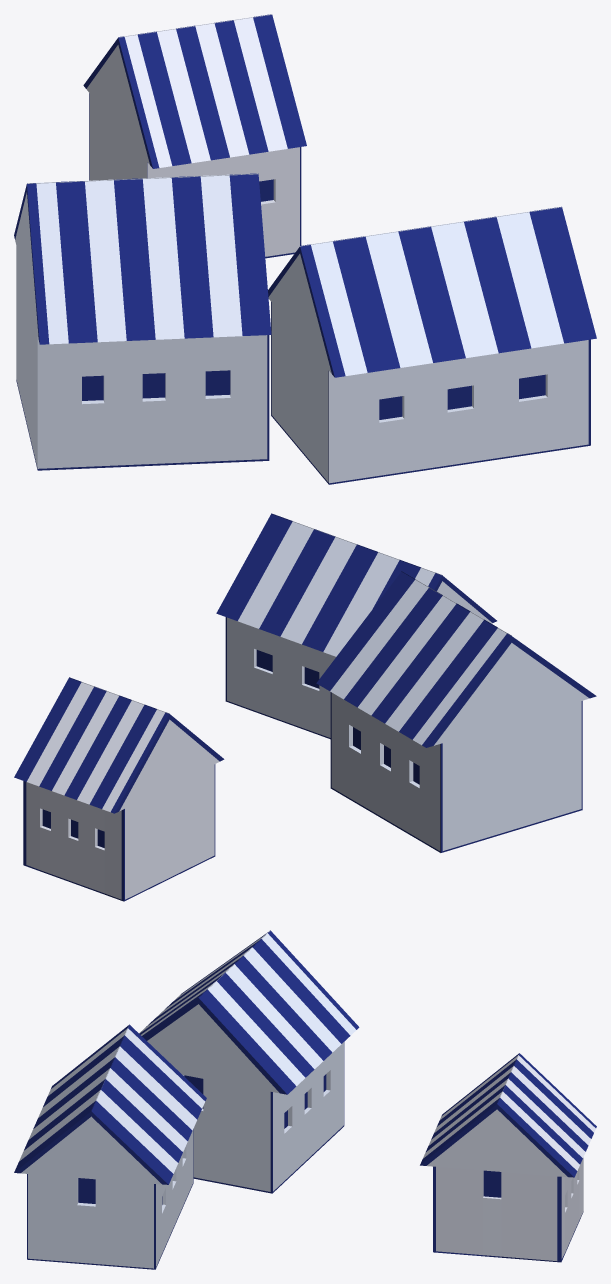
The model's file is Village_near_church.gltf.
The picture shows the model from 3 angles, top to bottom: view 1: azimuth 30°, elevation 25°; view 2: azimuth 150°, elevation 25°; view 3: azimuth 270°, elevation 25°; orthographic projection. The views are drawn at different scales.
Visible parts, largest first — view 1: Cube.001, Cube.002, Cube; view 2: Cube.002, Cube, Cube.001; view 3: Cube.002, Cube.001, Cube.
Boxes of the visible parts, box(x1,y1,x2,y2) form: Cube.001: box(268, 206, 596, 484); Cube.002: box(14, 173, 271, 470); Cube: box(83, 14, 306, 258); Cube.002: box(316, 571, 596, 852); Cube: box(14, 677, 224, 901); Cube.001: box(216, 513, 496, 739); Cube.002: box(139, 930, 359, 1193); Cube.001: box(14, 1024, 206, 1269); Cube: box(420, 1053, 596, 1262).
Size of the model in its own units: 6.36 by 3.07 by 8.92.
